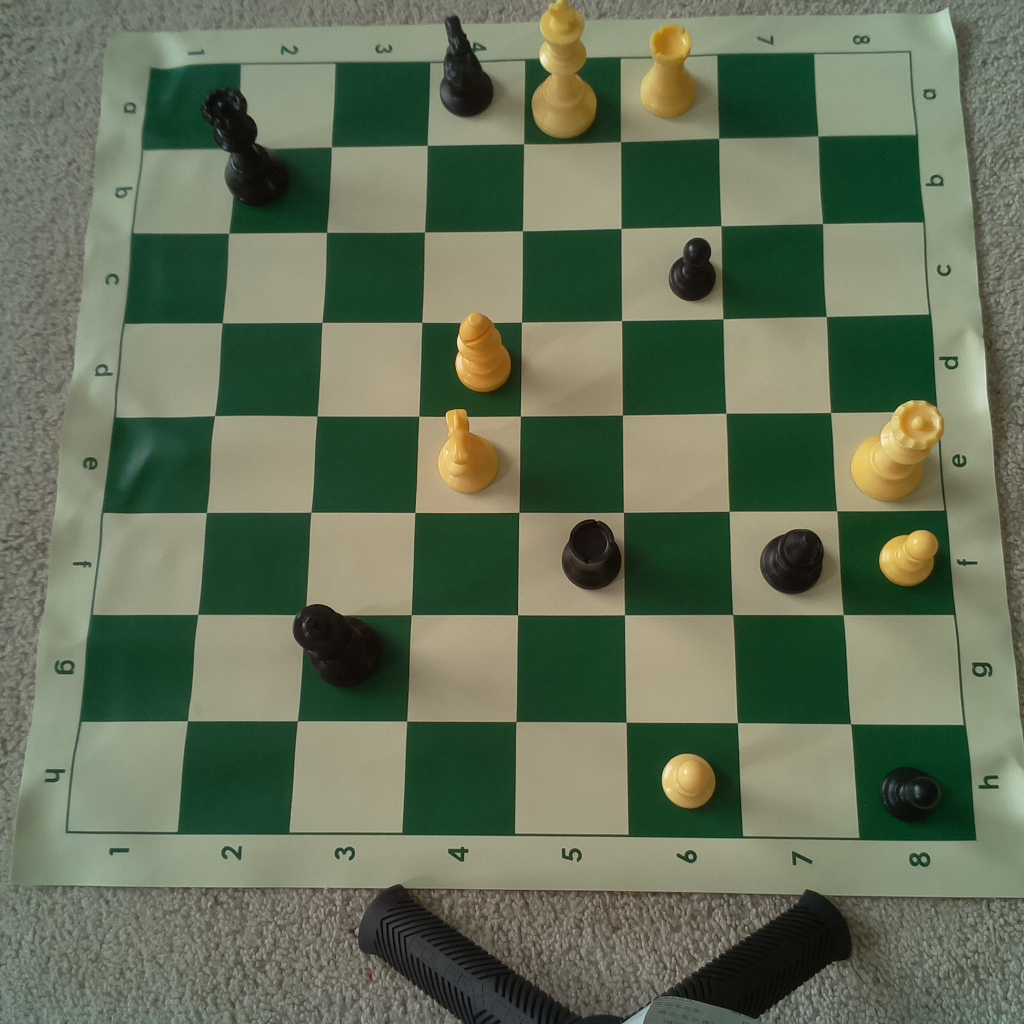black_bishop: (755, 522, 831, 593)
black_king: (292, 597, 385, 692)
black_knight: (425, 13, 498, 119)
black_pawn: (876, 758, 949, 834), (666, 235, 724, 304)
black_queen: (199, 84, 296, 208)
black_rook: (553, 513, 625, 596)
file_a: (140, 49, 918, 148)
file_b: (131, 138, 927, 232)
file_c: (123, 222, 932, 322)
file_d: (112, 312, 936, 419)
file_e: (98, 410, 949, 513)
file_f: (89, 513, 958, 615)
file_g: (81, 614, 967, 727)
file_h: (66, 722, 977, 840)
outline: (67, 52, 977, 839)
rank_1: (67, 61, 240, 832)
rank_2: (177, 64, 337, 835)
rank_3: (288, 62, 432, 835)
rank_4: (402, 58, 520, 831)
rank_5: (512, 61, 633, 835)
rank_6: (620, 57, 746, 836)
rank_7: (719, 56, 862, 836)
rank_8: (811, 52, 976, 841)
white_bishop: (445, 308, 515, 393)
white_king: (521, 1, 605, 144)
white_knight: (424, 405, 503, 499)
white_pawn: (873, 521, 945, 591), (658, 747, 719, 813)
white_queen: (847, 395, 946, 502)
white_rook: (638, 19, 701, 119)
